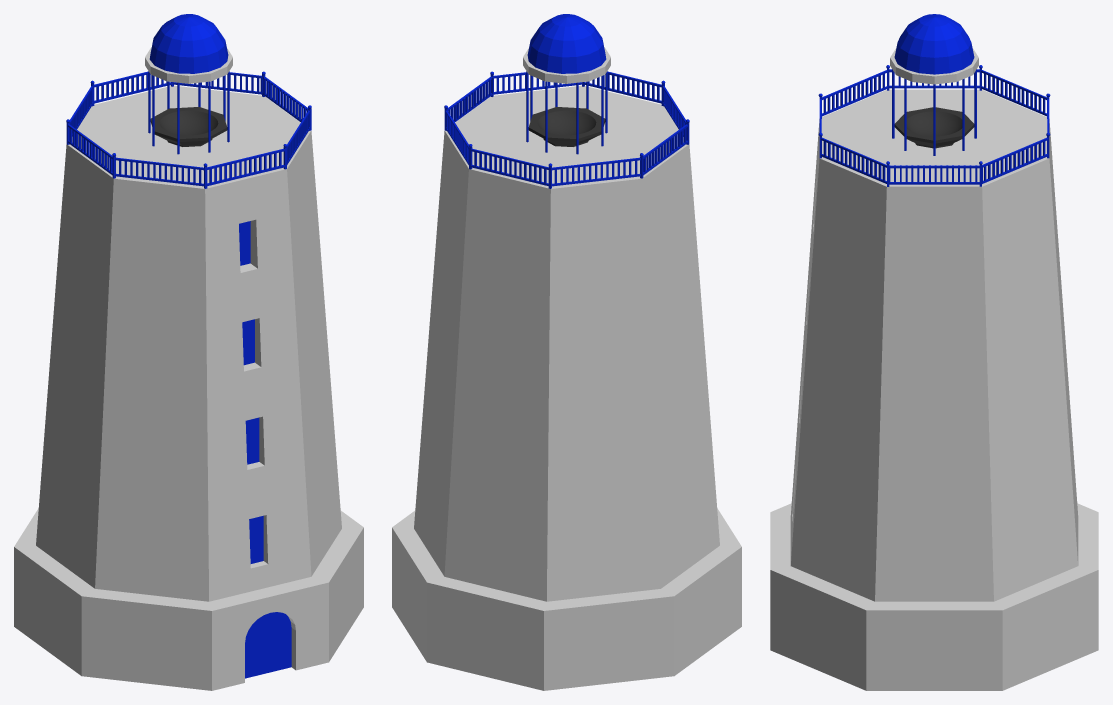
File: SM_Phare.fbx
The picture shows the model from 3 angles, left to right: view 1: azimuth 30°, elevation 25°; view 2: azimuth 150°, elevation 25°; view 3: azimuth 270°, elevation 25°; orthographic projection.
Parts seen in each view (by area): view 1: Cylinder.189, PhareBase.001, Sphere.042, Door2.045, WIndow2.137, FireBowlTop.001, toptohide.003, Cylinder.182, ARRAY.226, ARRAY.227, ARRAY.194, ARRAY.225 (+1 smaller); view 2: Cylinder.189, PhareBase.001, Sphere.042, FireBowlTop.001, toptohide.003, Cylinder.182, ARRAY.226, ARRAY.228, ARRAY.204, ARRAY.225, ARRAY.227; view 3: Cylinder.189, PhareBase.001, Sphere.042, FireBowlTop.001, toptohide.003, Cylinder.182, ARRAY.198, ARRAY.201, ARRAY.204, ARRAY.194, ARRAY.226.
Boxes of the visible parts, x1,y1,x2,y2 form: Cylinder.189: [36, 85, 341, 601]; PhareBase.001: [14, 508, 363, 690]; Sphere.042: [149, 14, 228, 73]; Door2.045: [245, 612, 291, 678]; WIndow2.137: [239, 221, 263, 563]; FireBowlTop.001: [150, 107, 227, 146]; toptohide.003: [148, 71, 229, 154]; Cylinder.182: [145, 47, 232, 83]; ARRAY.226: [260, 77, 308, 121]; ARRAY.227: [209, 152, 281, 183]; ARRAY.194: [119, 160, 201, 183]; ARRAY.225: [69, 128, 112, 172]; Cylinder.189: [414, 85, 719, 601]; PhareBase.001: [392, 508, 741, 690]; Sphere.042: [527, 14, 606, 73]; FireBowlTop.001: [528, 107, 605, 146]; toptohide.003: [526, 71, 607, 154]; Cylinder.182: [523, 47, 610, 83]; ARRAY.226: [445, 77, 493, 127]; ARRAY.228: [474, 152, 546, 183]; ARRAY.204: [554, 160, 637, 183]; ARRAY.225: [643, 128, 686, 172]; ARRAY.227: [588, 74, 659, 100]; Cylinder.189: [790, 89, 1078, 601]; PhareBase.001: [770, 503, 1098, 690]; Sphere.042: [894, 14, 974, 74]; FireBowlTop.001: [894, 107, 974, 148]; toptohide.003: [892, 69, 976, 155]; Cylinder.182: [890, 48, 978, 84]; ARRAY.198: [984, 140, 1045, 180]; ARRAY.201: [823, 141, 885, 180]; ARRAY.204: [984, 74, 1045, 113]; ARRAY.194: [823, 74, 884, 113]; ARRAY.226: [889, 165, 982, 182].
Size of the model in its own units: 924 by 1875 by 924.
